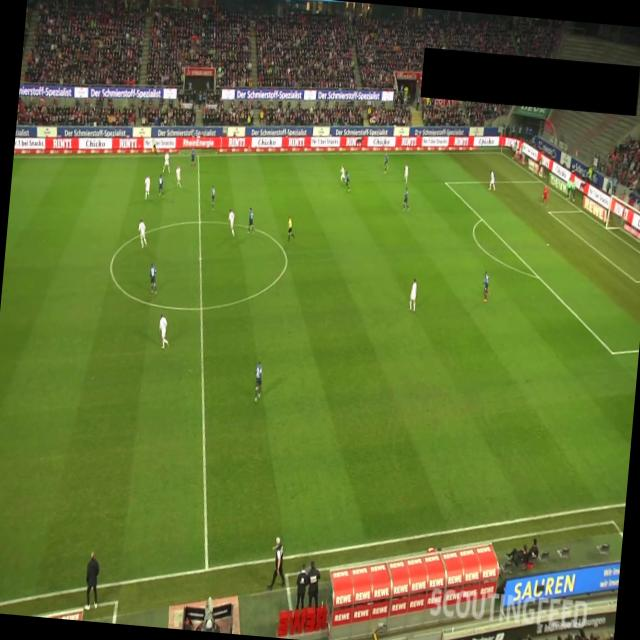goalkeeper: (541, 184, 549, 206)
player: (252, 358, 264, 404), (156, 313, 171, 349), (136, 218, 149, 248), (480, 270, 492, 302), (147, 262, 159, 294), (226, 208, 237, 238), (408, 278, 417, 310), (247, 206, 256, 234), (142, 174, 152, 199), (162, 150, 172, 173), (402, 186, 411, 211), (208, 183, 216, 210), (157, 172, 165, 198), (174, 165, 183, 188), (488, 170, 497, 190), (339, 163, 346, 186), (344, 169, 351, 191), (189, 148, 196, 168), (402, 162, 408, 184), (383, 152, 389, 174)
referee: (286, 214, 296, 242), (149, 136, 159, 156)
